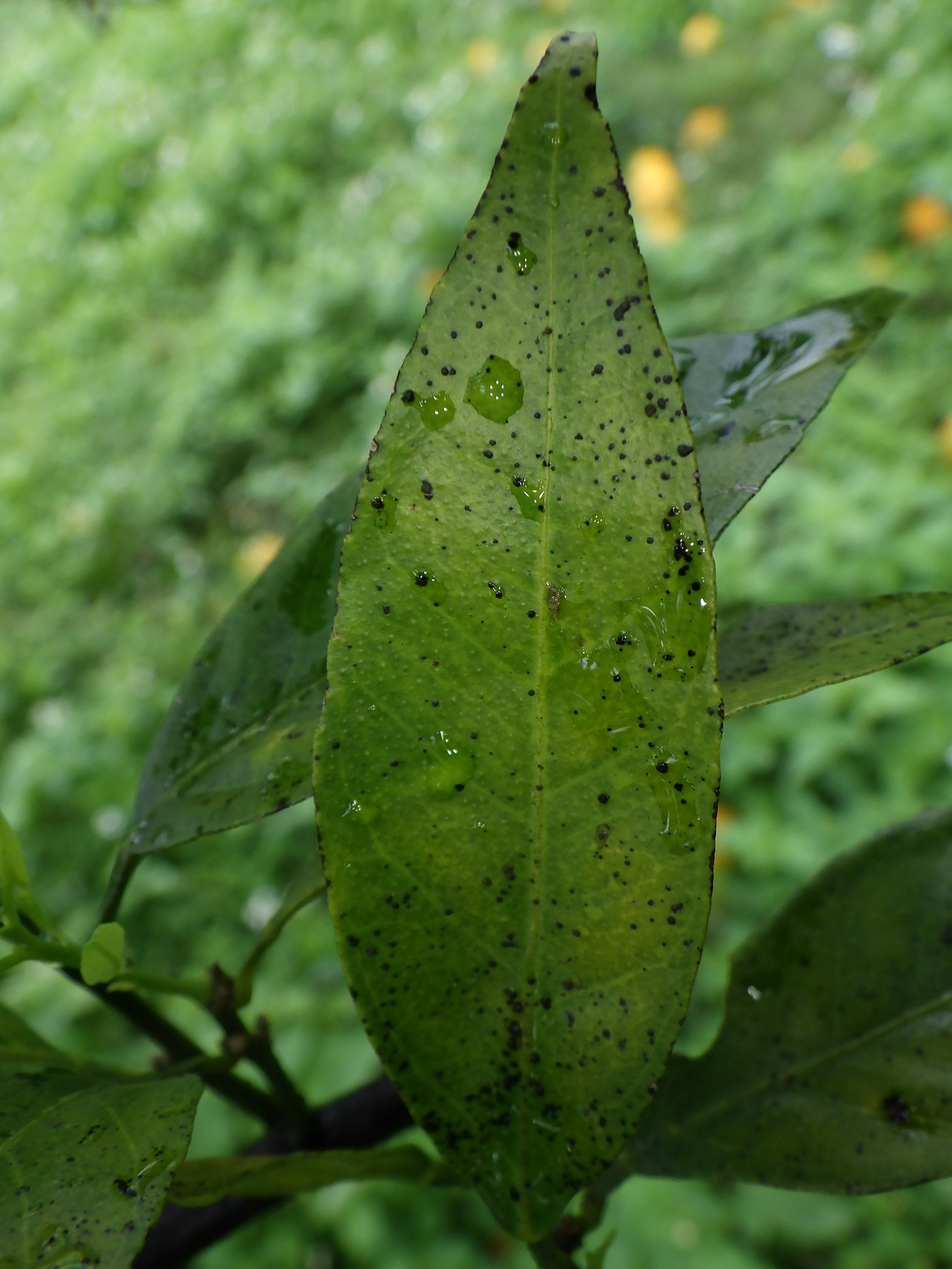Oily_Spot: (312, 32, 726, 1268)
